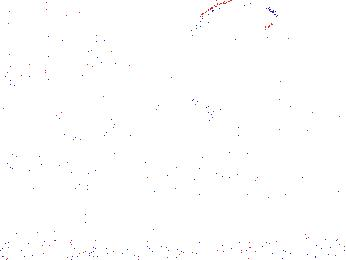moon jellyfish: (189, 1, 281, 53), (256, 103, 313, 181), (66, 9, 123, 77), (187, 88, 262, 137), (1, 1, 50, 72)
